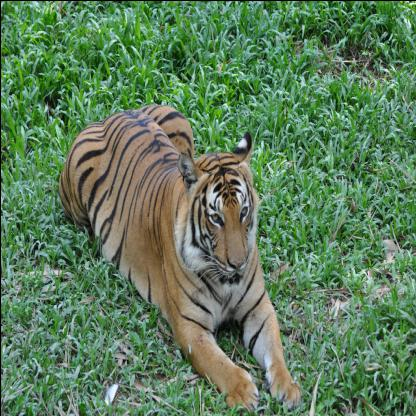tiger: (180, 138, 260, 300)
